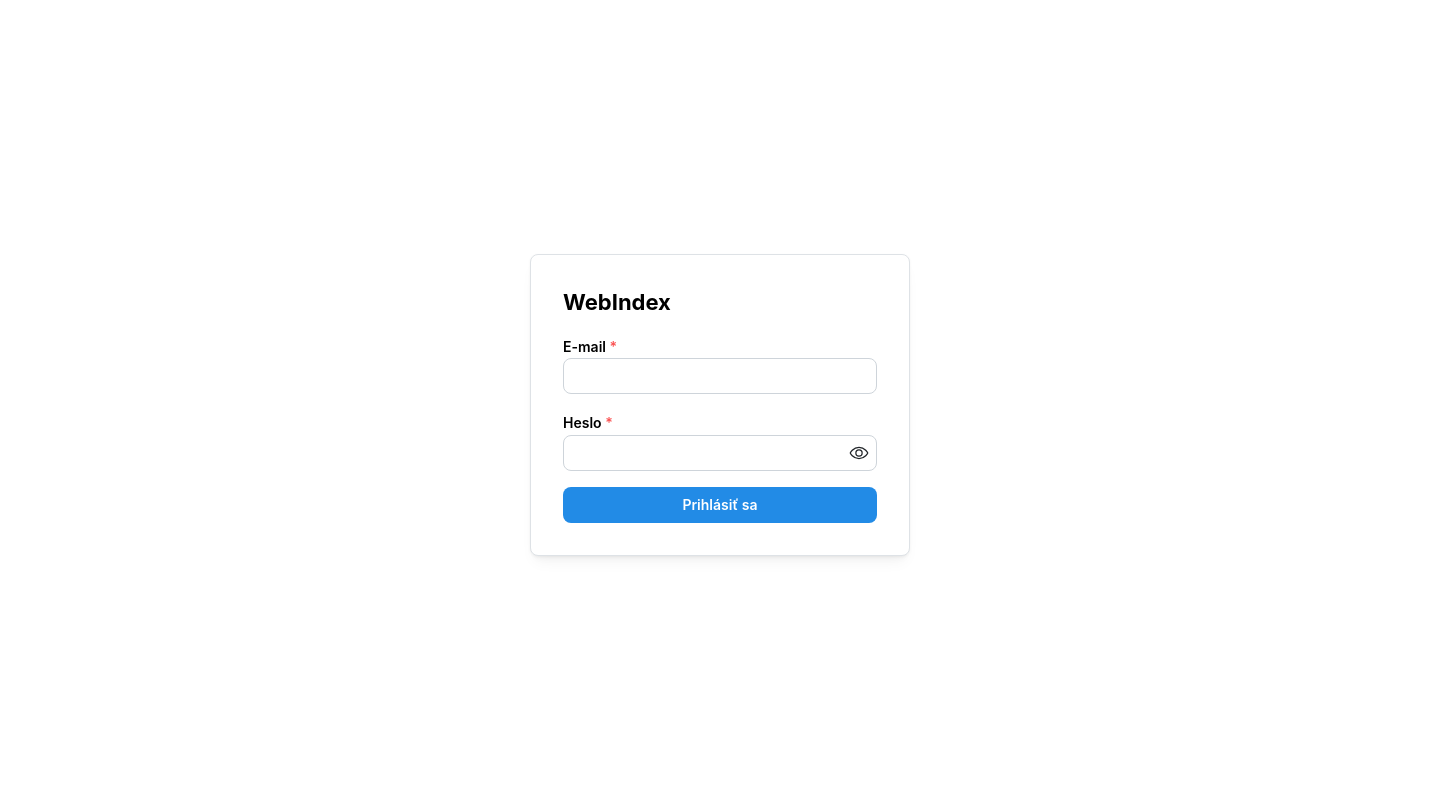
Scenario: App › logs in and shows the navigation
Type "admin@example.com" into the field labelled "E-mail *". click: (720, 376)
box: [563,358,877,394]
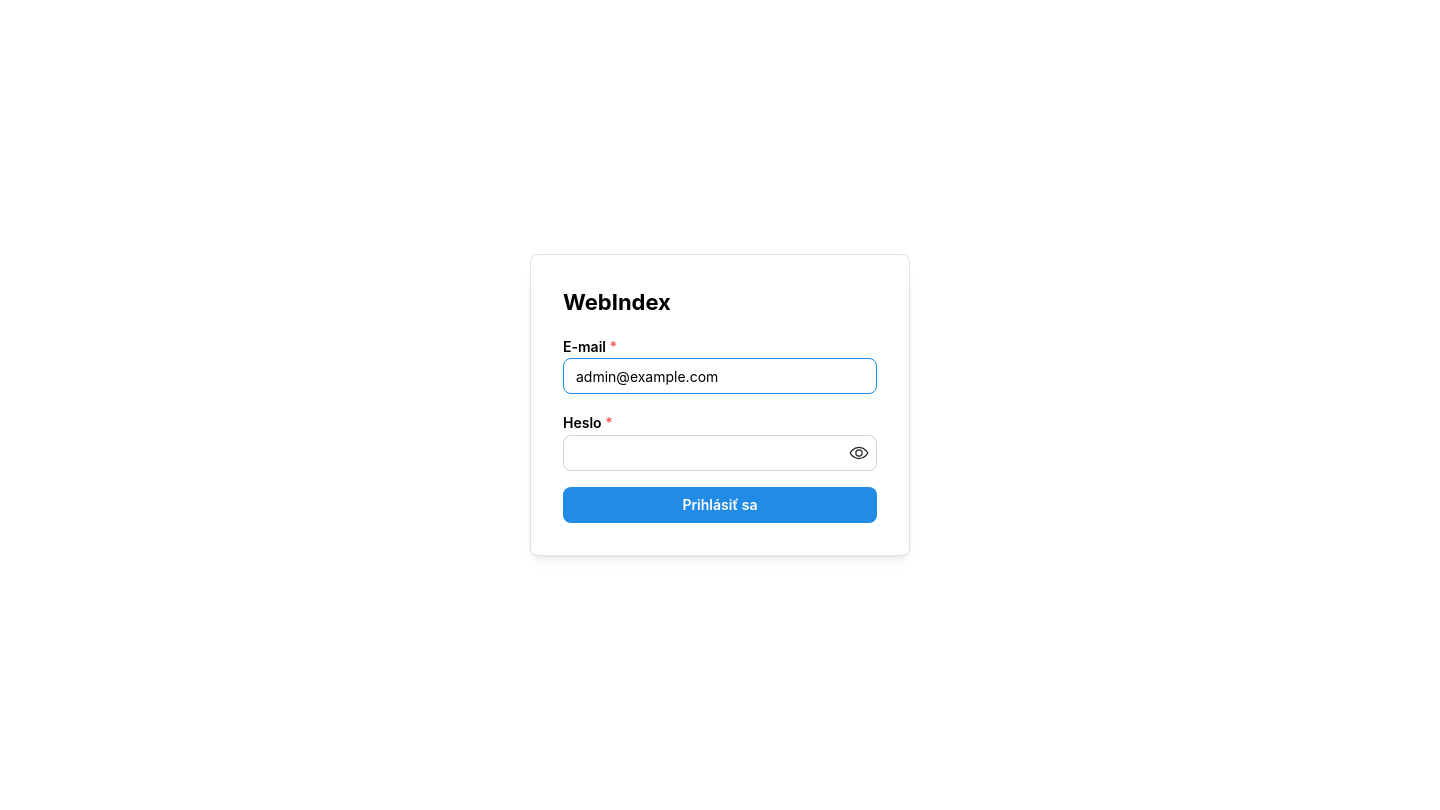
Type "spravne-heslo-123" into the password field labelled "Heslo *". click: (720, 453)
box: [564,436,876,470]
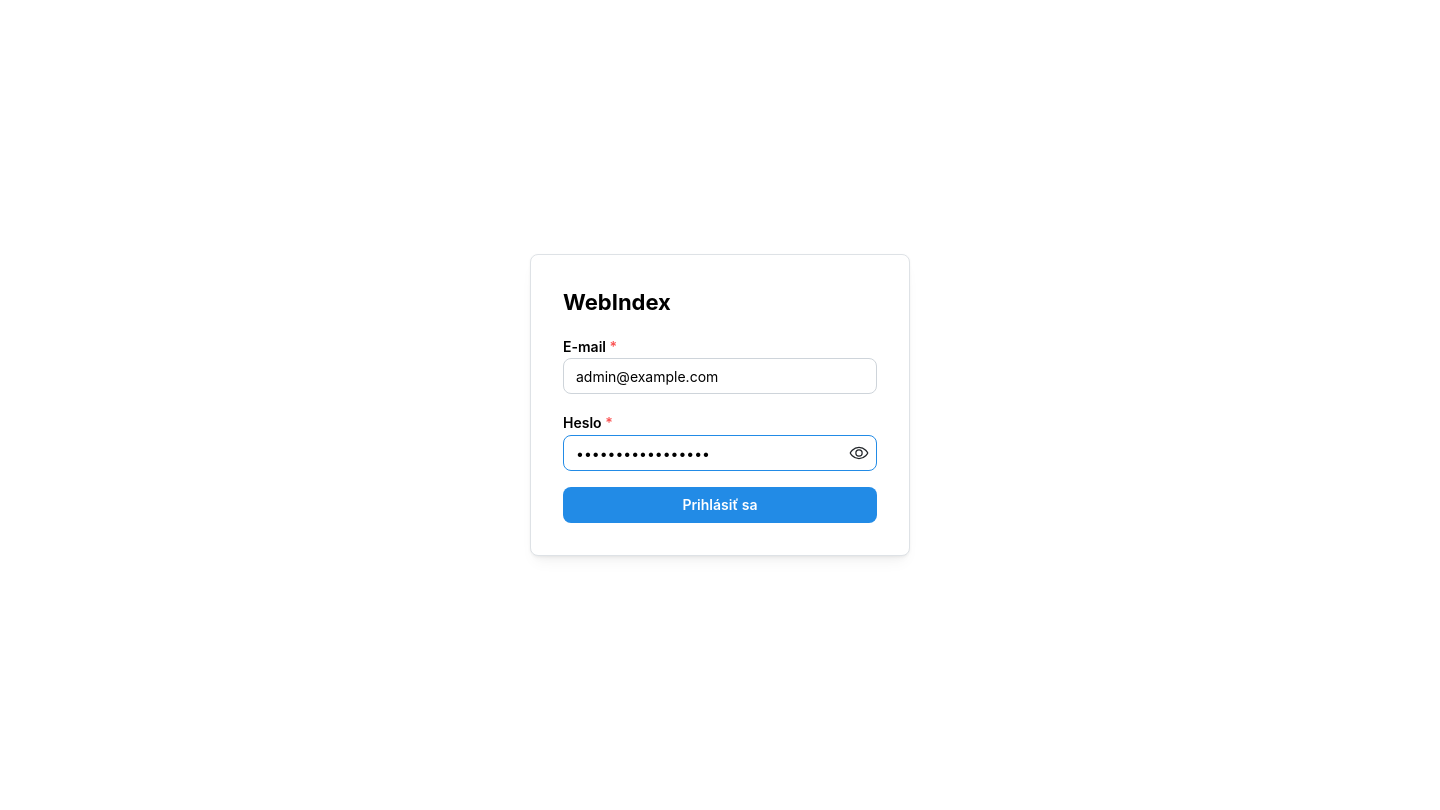
Click the button "Prihlásiť sa". click: (720, 505)
box: [563,487,877,523]
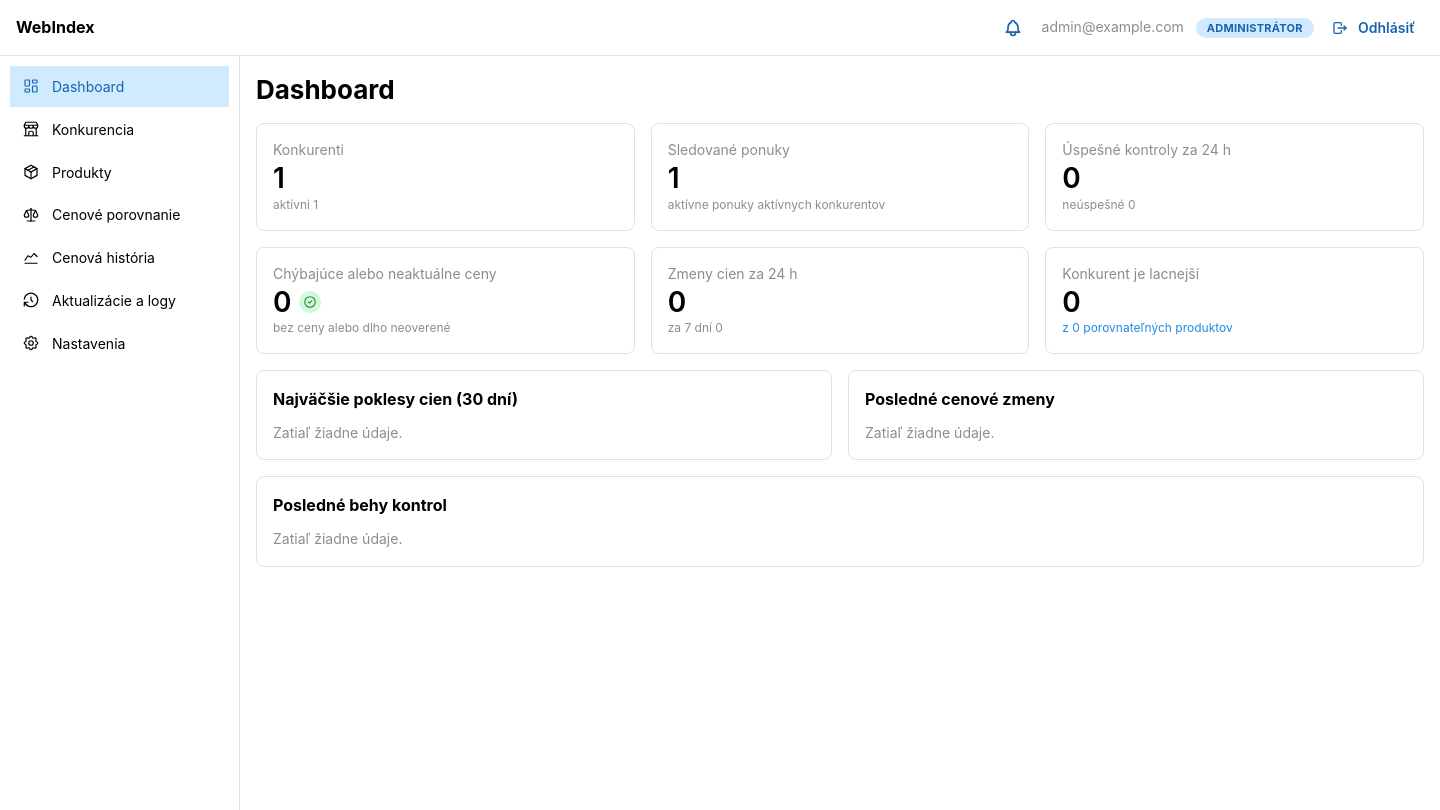
Check: the link "Dashboard" is shown, box [10,66,229,107]
Check: the link "Konkurencia" is shown, box [22,120,134,138]
Check: the link "Produkty" is shown, box [22,163,112,181]
